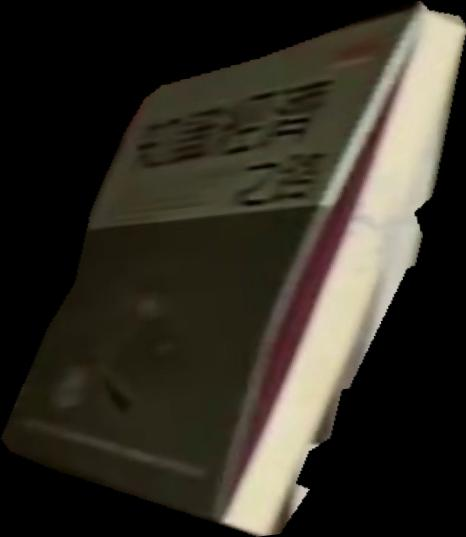backward: (1, 1, 466, 537)
